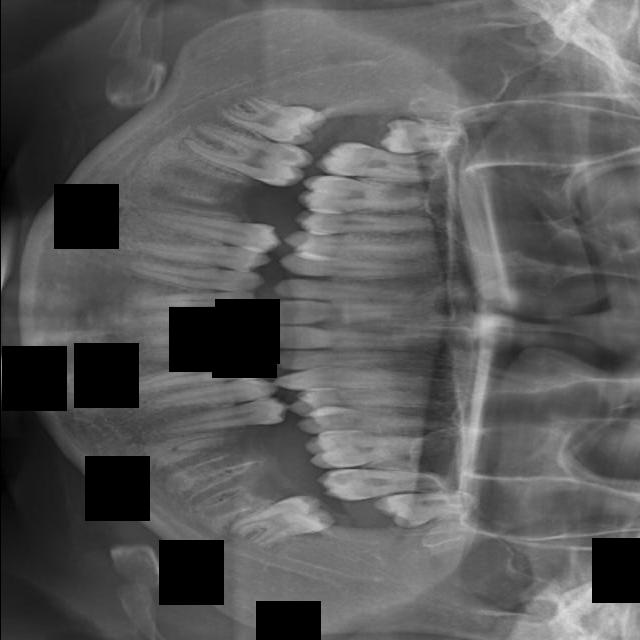3M ESPE Implant: (377, 115, 463, 162)
AGS Medikal Implant: (271, 350, 417, 370)
AMerOss Implant: (273, 365, 429, 391)
Amalgam filling: (290, 382, 444, 416)
Anthogyr Implant: (294, 403, 450, 434)
Bicon Implant: (303, 420, 465, 471)
BioHorizons Implant: (316, 463, 457, 502)
BioLife Implant: (372, 491, 478, 529)
Biomet 3i Implant: (222, 486, 338, 557)
Caries: (314, 138, 447, 186)
Composite filling: (139, 394, 292, 447)
Cowellmedi Implant: (137, 374, 281, 418)
Crown: (111, 354, 273, 395)
DENTSPLY Implant: (140, 343, 260, 359)
Dentatus Implant: (140, 326, 259, 346)
Dentis Implant: (138, 309, 257, 327)
Dentium Implant: (137, 291, 257, 309)
Euroteknika Implant: (117, 257, 266, 296)
Filling: (122, 227, 272, 276)
Frontier Implant: (132, 207, 284, 256)
Hiossen Implant: (295, 174, 426, 218)
Implant: (178, 120, 316, 193)
Keystone Dental Implant: (213, 87, 329, 152)
MIS Implant: (291, 209, 434, 239)
Mandible: (283, 230, 437, 261)
Maxilla: (277, 252, 433, 285)
Megagen Implant: (270, 277, 423, 306)
Neodent Implant: (264, 300, 433, 325)
Neoss Implant: (264, 326, 430, 349)
